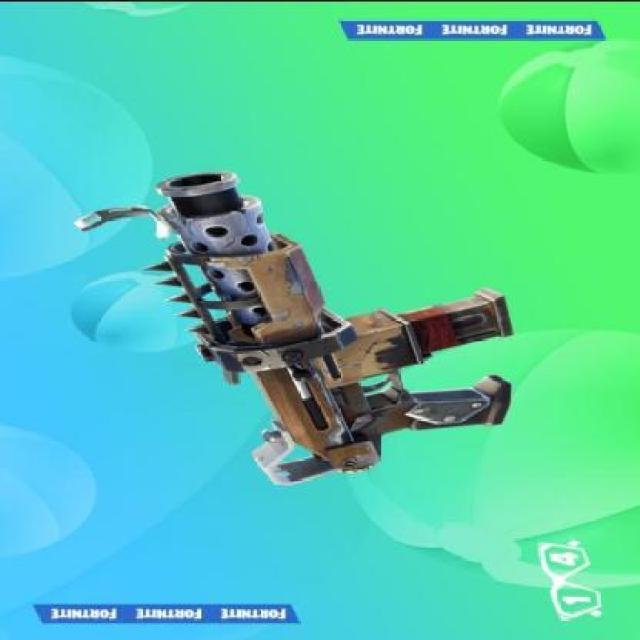weapon: (72, 169, 514, 486)
